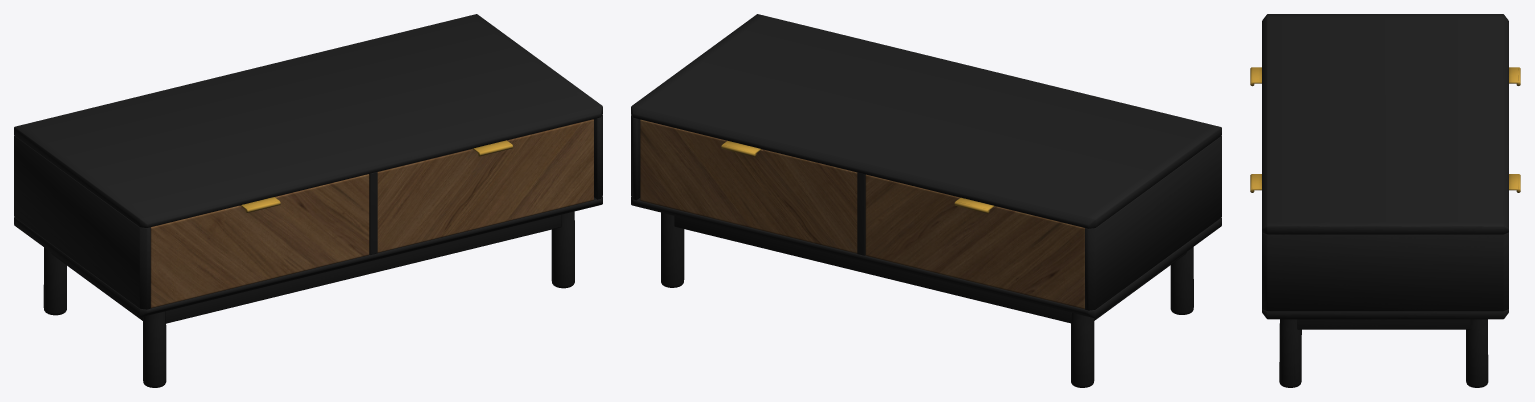
File: table.glb
3 views of the same model, side by side, from view 1: azimuth 30°, elevation 25°; view 2: azimuth 150°, elevation 25°; view 3: azimuth 270°, elevation 25° (orthographic). The views are drawn at different scales.
Parts seen in each view (by area): view 1: GRAPHITE001, DARK_STAINED_OAK001, BRASS001; view 2: GRAPHITE001, DARK_STAINED_OAK001, BRASS001; view 3: GRAPHITE001, BRASS001.
Boxes of the visible parts, x1=… form: GRAPHITE001: x1=14, y1=14, x2=602, y2=387; DARK_STAINED_OAK001: x1=150, y1=119, x2=593, y2=308; BRASS001: x1=240, y1=140, x2=512, y2=212; GRAPHITE001: x1=631, y1=14, x2=1221, y2=387; DARK_STAINED_OAK001: x1=640, y1=119, x2=1084, y2=308; BRASS001: x1=721, y1=141, x2=994, y2=213; GRAPHITE001: x1=1262, y1=14, x2=1508, y2=387; BRASS001: x1=1250, y1=67, x2=1520, y2=192.
Size of what is drawn, in the model's own units: 98.96 by 36.97 by 53.16.
3 materials, 3 textured.
